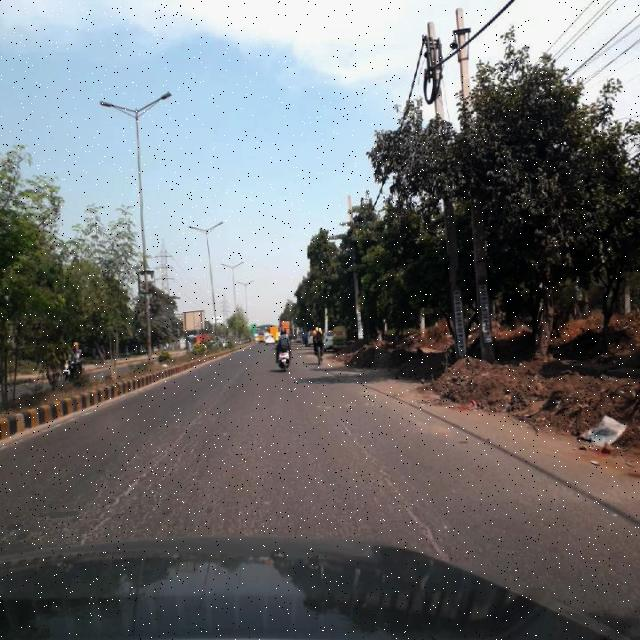D00: (85, 451, 168, 533), (368, 454, 442, 540), (168, 380, 225, 452), (316, 396, 370, 454)
